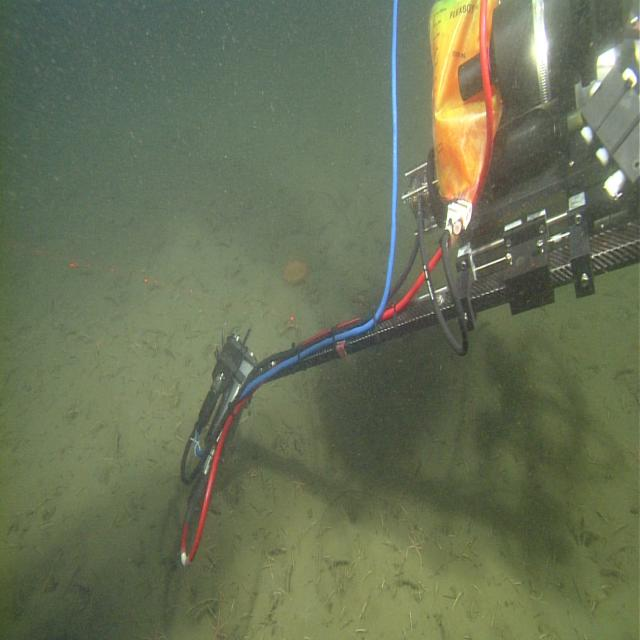Brittle Star: (402, 524, 428, 569)
